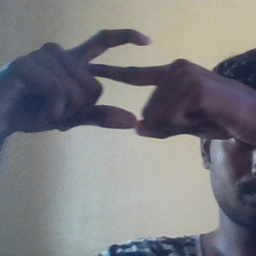E: (63, 25, 159, 138)
